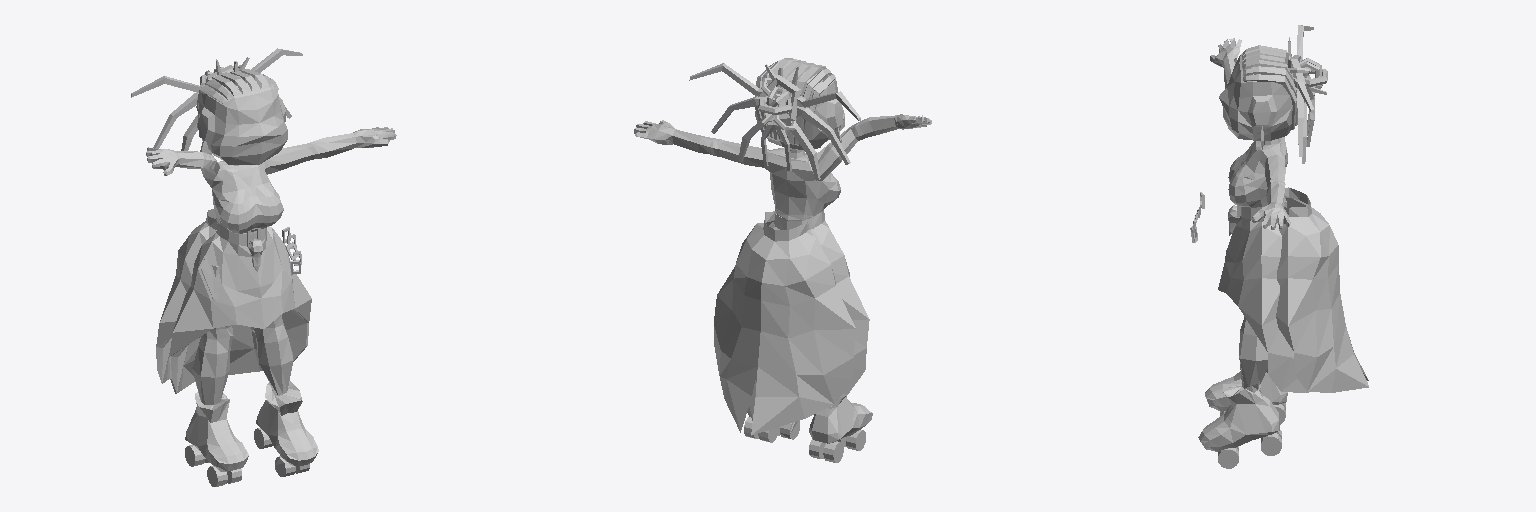
File: WitchFINAL2_000015.obj
3 views of the same model, side by side, from view 1: azimuth 30°, elevation 25°; view 2: azimuth 150°, elevation 25°; view 3: azimuth 270°, elevation 25° (orthographic).
Visible parts, largest first — view 1: Body_Cylinder, Torso(Boobies)_Cylinder.002, LegR_Cube.004, LegL_Cube.003, Head_Cylinder.004, ZBody_Cylinder.001, Hair_Cylinder.006, Tail.001_Torus.001; view 2: ZBody_Cylinder.001, Torso(Boobies)_Cylinder.002, Body_Cylinder, LegR_Cube.004, Hair_Cylinder.006, Tail.001_Torus.001, Tail_Torus, Tail.002_Torus.002, Head_Cylinder.004, LegL_Cube.003; view 3: ZBody_Cylinder.001, Body_Cylinder, LegL_Cube.003, Torso(Boobies)_Cylinder.002, Head_Cylinder.004, Hair_Cylinder.006, LegR_Cube.004, Tail_Torus, Tail.002_Torus.002.
Boxes of the visible parts, box(x1,y1,x2,y2) form: Body_Cylinder: box(169, 223, 311, 393); Torso(Boobies)_Cylinder.002: box(146, 127, 396, 233); LegR_Cube.004: box(185, 265, 248, 486); LegL_Cube.003: box(254, 315, 318, 476); Head_Cylinder.004: box(197, 71, 287, 164); ZBody_Cylinder.001: box(156, 209, 217, 383); Hair_Cylinder.006: box(196, 69, 278, 113); Tail.001_Torus.001: box(131, 76, 204, 150); ZBody_Cylinder.001: box(714, 211, 855, 435); Torso(Boobies)_Cylinder.002: box(634, 114, 931, 220); Body_Cylinder: box(748, 210, 869, 420); LegR_Cube.004: box(809, 396, 872, 462); Hair_Cylinder.006: box(755, 58, 835, 145); Tail.001_Torus.001: box(774, 91, 860, 180); Tail_Torus: box(758, 64, 800, 130); Tail.002_Torus.002: box(689, 63, 774, 166); Head_Cylinder.004: box(755, 66, 844, 150); LegL_Cube.003: box(744, 411, 799, 442); ZBody_Cylinder.001: box(1276, 187, 1368, 392); Body_Cylinder: box(1218, 201, 1308, 392); LegL_Cube.003: box(1198, 256, 1281, 468); Torso(Boobies)_Cylinder.002: box(1210, 38, 1290, 229); Head_Cylinder.004: box(1219, 53, 1294, 140); Hair_Cylinder.006: box(1242, 45, 1304, 129); LegR_Cube.004: box(1205, 369, 1287, 424); Tail_Torus: box(1285, 37, 1327, 99); Tail.002_Torus.002: box(1294, 78, 1314, 163).
Size of the model in its own units: 11.81 by 16.8 by 6.79.